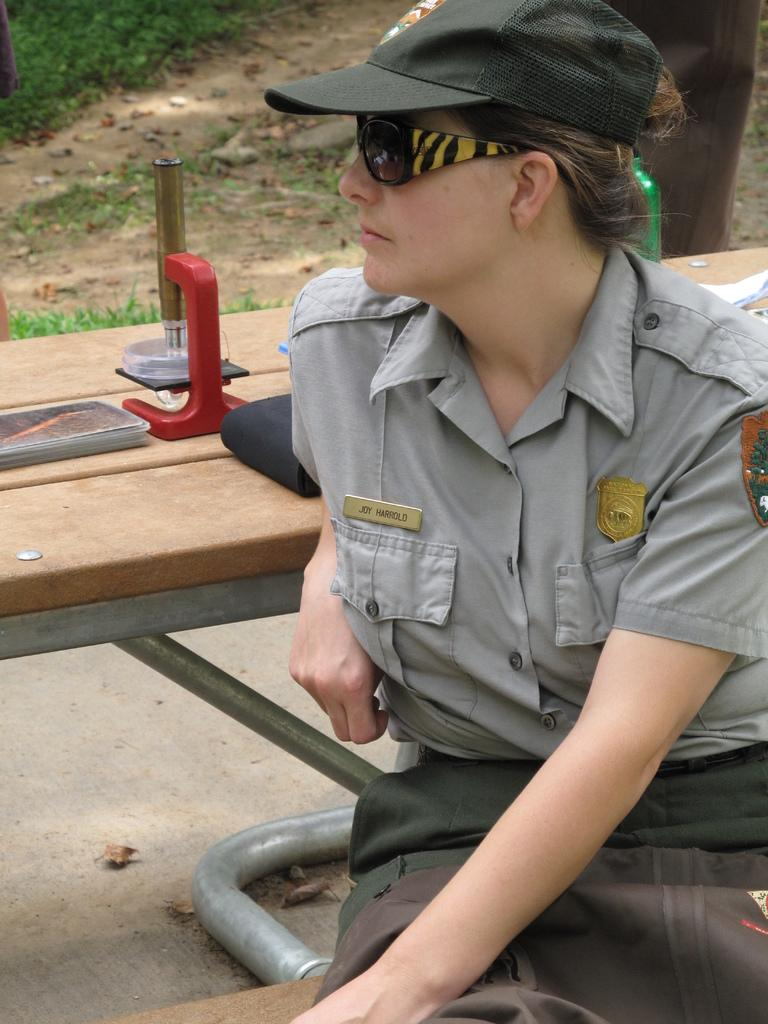Hat: (264, 0, 667, 145)
